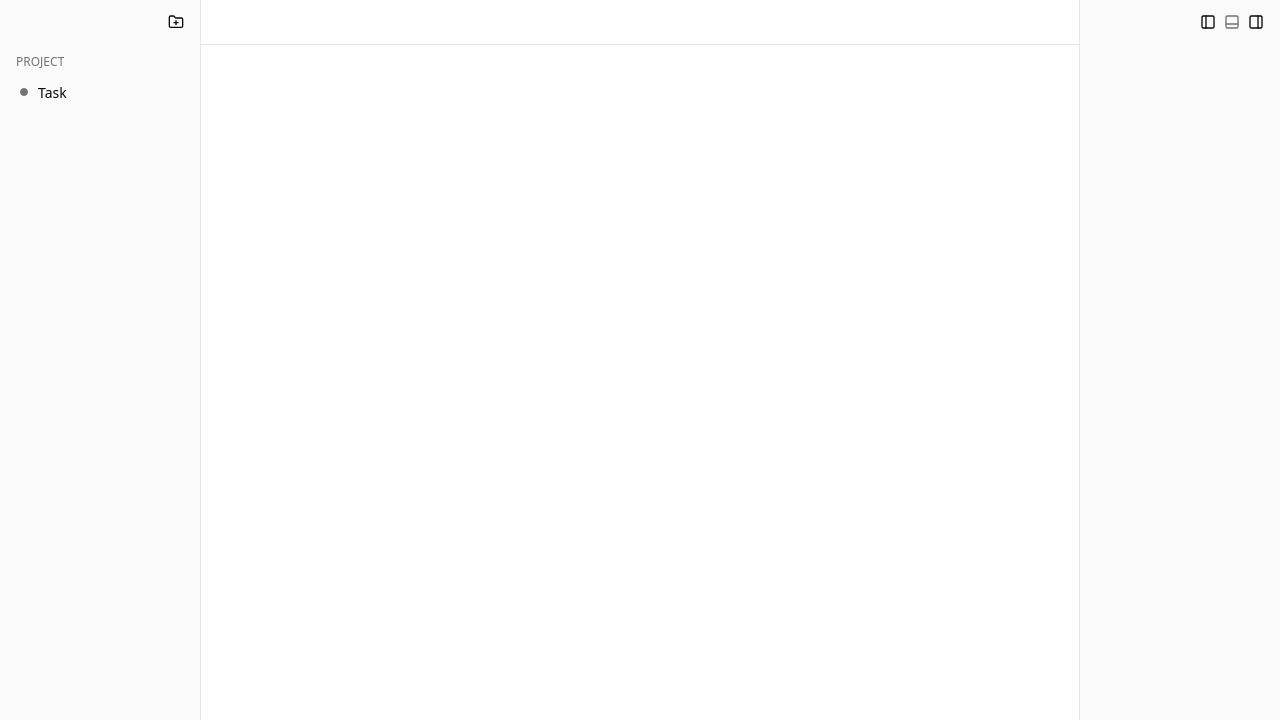
A session's context menu › asks before archiving unsaved work, then archives discarding it
The image size is (1280, 720).
Later steps or results of the test are not shown.
Right-click the list item "Task" at (100, 92), box [8,76,192,108]
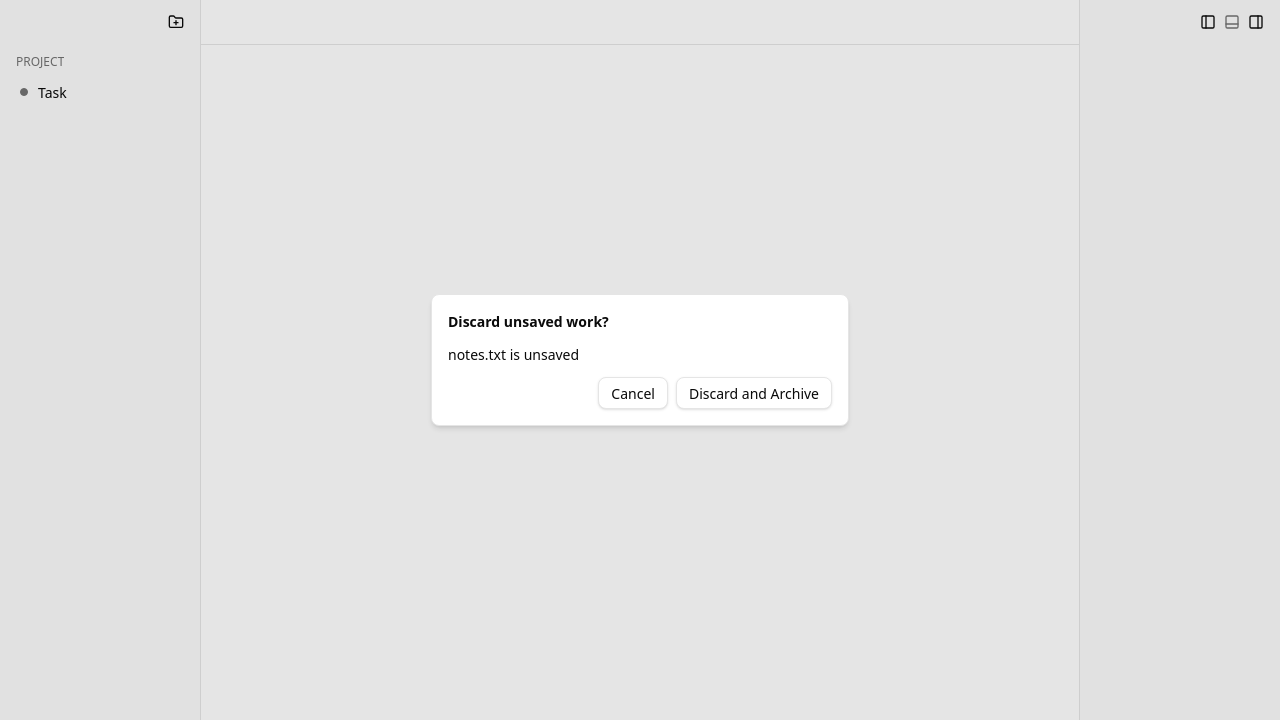
Result: the dialog shows "notes.txt is unsaved" at [448,345,579,364]
